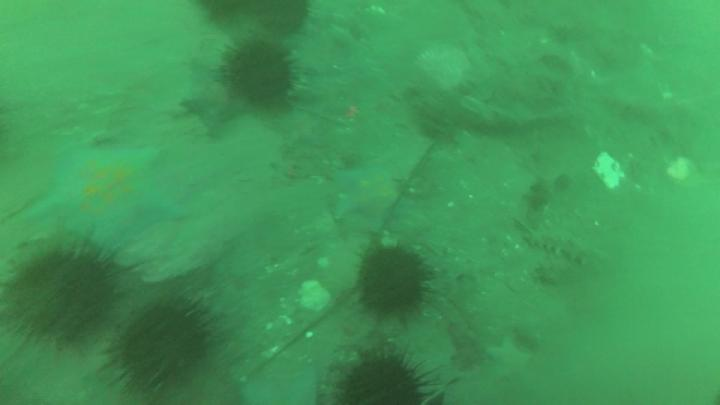echinus: (7, 253, 111, 344), (115, 295, 212, 391), (224, 43, 294, 107), (361, 251, 425, 313), (345, 362, 422, 405)
holothurian: (524, 232, 604, 269)
scallop: (418, 46, 468, 92)
starfish: (28, 147, 181, 249), (330, 167, 401, 231)
